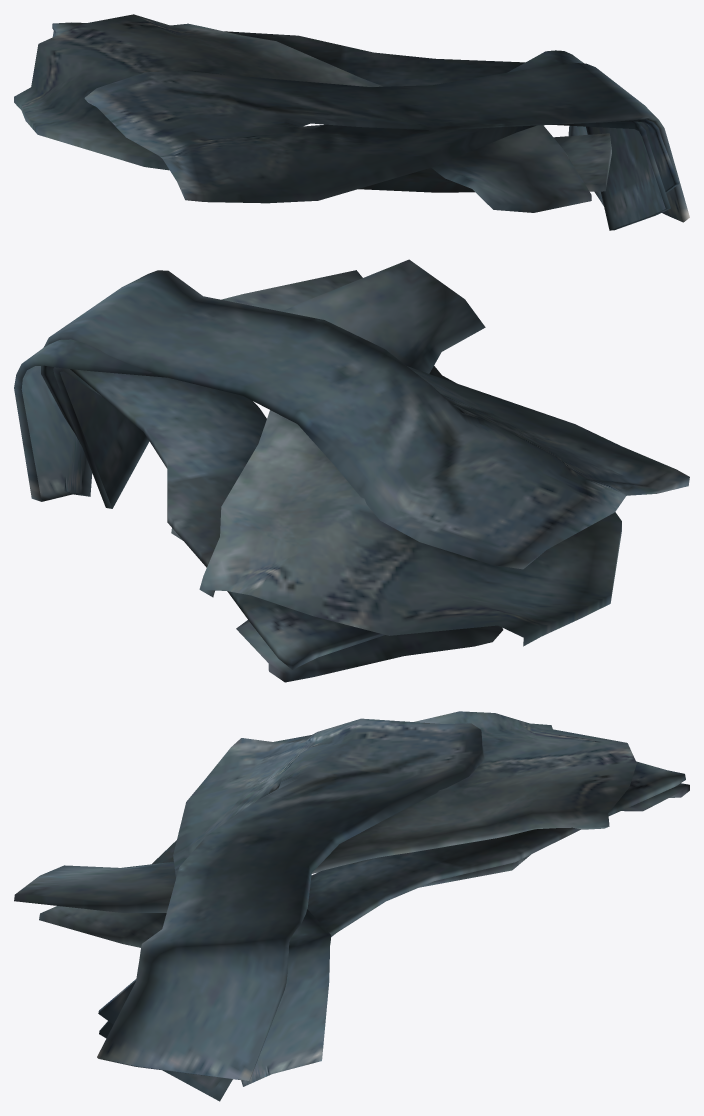
Rendered from clothing_pants_draping03.glb.
3 views of the same model, one above another, from view 1: azimuth 30°, elevation 25°; view 2: azimuth 150°, elevation 25°; view 3: azimuth 270°, elevation 25° (orthographic). The views are drawn at different scales.
Parts seen in each view (by area): view 1: clothing_pants_draping03; view 2: clothing_pants_draping03; view 3: clothing_pants_draping03.
Part boxes in pixels (box(x1,y1,x2,y2)): clothing_pants_draping03: box(14, 14, 689, 230); clothing_pants_draping03: box(14, 259, 689, 682); clothing_pants_draping03: box(14, 711, 689, 1101).
Bounding box in the file's own units: 0.5274 × 0.1631 × 0.5878.
1 material, 1 textured.
